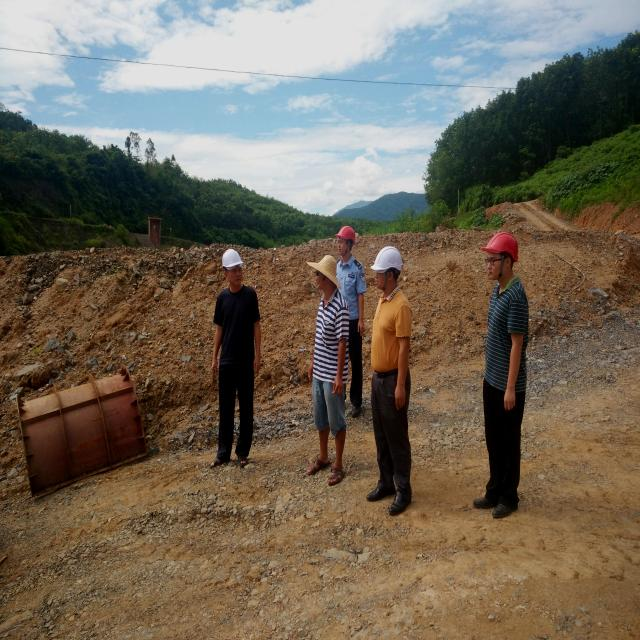face_nomask: (483, 256, 503, 286), (369, 266, 388, 295), (226, 264, 247, 290), (312, 272, 330, 297), (335, 238, 349, 255)
hand_noglove: (391, 382, 410, 413), (502, 386, 518, 410), (203, 354, 220, 375), (336, 371, 348, 399), (250, 357, 264, 376)
head_helmet: (371, 240, 407, 274), (482, 229, 521, 257), (222, 248, 242, 268), (337, 225, 356, 242)
head_nohelmet: (309, 253, 338, 274)
person: (476, 227, 531, 508), (368, 242, 416, 513), (215, 247, 258, 464), (310, 258, 347, 476), (333, 218, 365, 411)
shoes: (386, 483, 416, 520), (366, 476, 397, 503), (490, 497, 518, 520), (471, 490, 498, 510)
